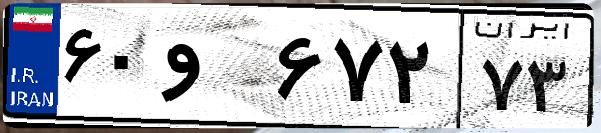0: (110, 28, 158, 98)
2: (385, 28, 445, 110)
3: (525, 38, 570, 115)
6: (270, 28, 330, 110), (57, 26, 110, 100)
7: (330, 28, 385, 110), (475, 38, 525, 113)
و: (158, 20, 270, 120)
